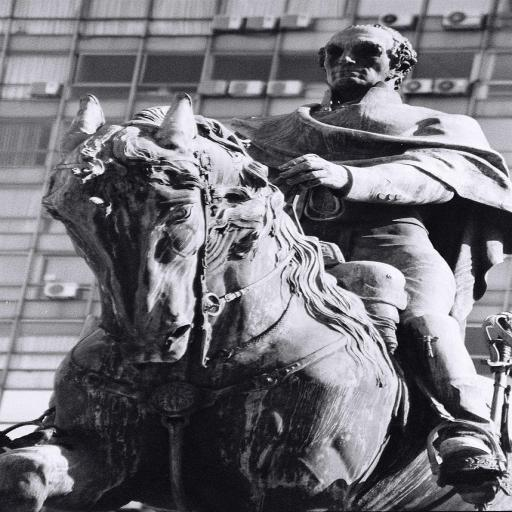horse: (48, 92, 512, 512)
